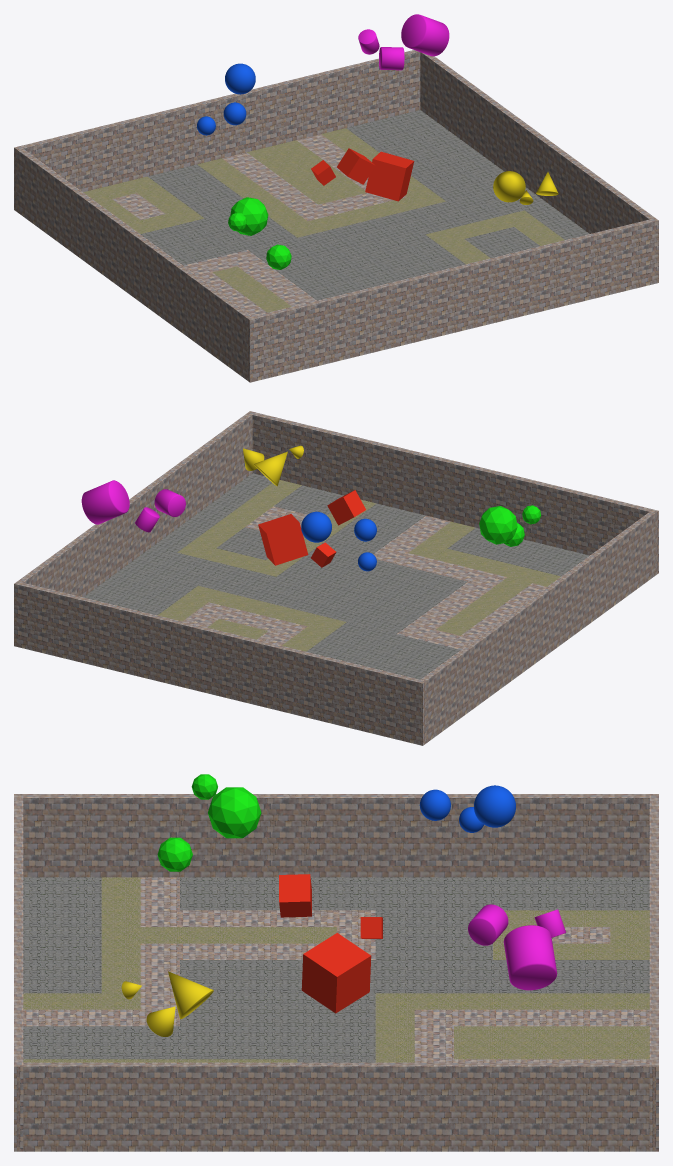
3 views of the same model, one above another, from view 1: azimuth 30°, elevation 25°; view 2: azimuth 150°, elevation 25°; view 3: azimuth 270°, elevation 25° (orthographic). The views are drawn at different scales.
Parts seen in each view (by area): view 1: CubeStaticGround, CubeStaticWall.002, CubeStaticWall.000, CubeStaticWall.001, CubeStaticWall.003, Cube.000, Cylinder.002, Icosphere.001, Cone.001, Cube.002, Sphere.001, Cylinder.001; view 2: CubeStaticGround, CubeStaticWall.000, CubeStaticWall.002, CubeStaticWall.001, CubeStaticWall.003, Cube.000, Cylinder.002, Icosphere.001, Cube.002, Sphere.001, Cylinder.001, Cone.001; view 3: CubeStaticGround, CubeStaticWall.003, CubeStaticWall.001, Cube.000, CubeStaticWall.000, CubeStaticWall.002, Cylinder.002, Icosphere.001, Sphere.001, Cube.002, Cylinder.001, Cone.001 (+3 smaller).
Boxes of the visible parts, bbox=[...] form: CubeStaticGround: bbox=[83, 110, 589, 316]; CubeStaticWall.002: bbox=[246, 218, 658, 382]; CubeStaticWall.000: bbox=[14, 50, 420, 211]; CubeStaticWall.001: bbox=[17, 148, 252, 379]; CubeStaticWall.003: bbox=[420, 52, 654, 233]; Cube.000: bbox=[365, 151, 414, 201]; Cylinder.002: bbox=[401, 14, 449, 56]; Icosphere.001: bbox=[230, 197, 268, 235]; Cone.001: bbox=[493, 171, 525, 202]; Cube.002: bbox=[337, 148, 375, 184]; Sphere.001: bbox=[225, 63, 255, 94]; Cylinder.001: bbox=[379, 47, 404, 70]; CubeStaticGround: bbox=[83, 473, 589, 679]; CubeStaticWall.000: bbox=[14, 581, 426, 745]; CubeStaticWall.002: bbox=[247, 411, 658, 574]; CubeStaticWall.001: bbox=[421, 512, 655, 742]; CubeStaticWall.003: bbox=[18, 413, 252, 597]; Cube.000: bbox=[258, 514, 308, 565]; Cylinder.002: bbox=[81, 480, 129, 524]; Icosphere.001: bbox=[479, 506, 517, 544]; Cube.002: bbox=[327, 490, 365, 525]; Sphere.001: bbox=[301, 511, 331, 542]; Cylinder.001: bbox=[154, 489, 185, 516]; Cone.001: bbox=[254, 451, 287, 486]; CubeStaticGround: bbox=[23, 877, 649, 1062]; CubeStaticWall.003: bbox=[23, 1062, 649, 1151]; CubeStaticWall.001: bbox=[23, 794, 649, 877]; Cube.000: bbox=[301, 933, 371, 1013]; CubeStaticWall.000: bbox=[649, 794, 658, 1151]; CubeStaticWall.002: bbox=[14, 794, 23, 1151]; Cylinder.002: bbox=[503, 925, 557, 990]; Icosphere.001: bbox=[208, 787, 261, 838]; Sphere.001: bbox=[474, 785, 515, 827]; Cube.002: bbox=[279, 874, 311, 917]; Cylinder.001: bbox=[468, 904, 508, 945]; Cone.001: bbox=[168, 971, 213, 1019].
Size of the model in its own units: 41.2 by 14.28 by 41.2.
Materials: 18 (3 with a texture image).
